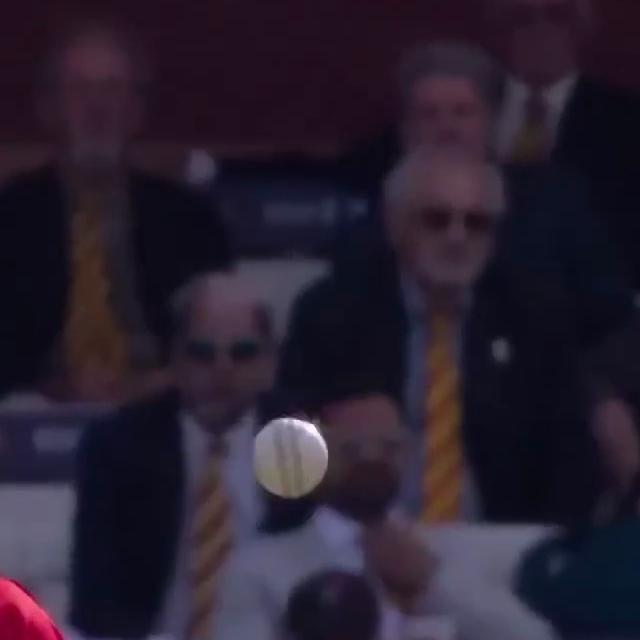umpire: (0, 20, 244, 640)
